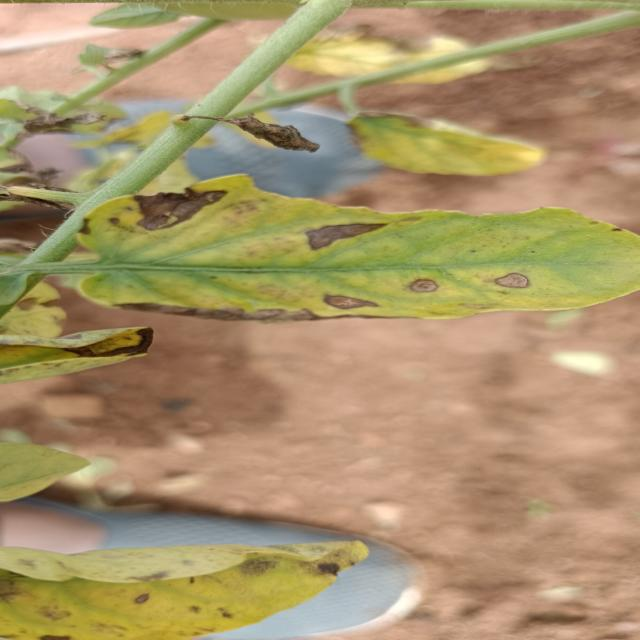tomato_early blight: (4, 174, 638, 320), (0, 542, 366, 639), (347, 112, 545, 175)
